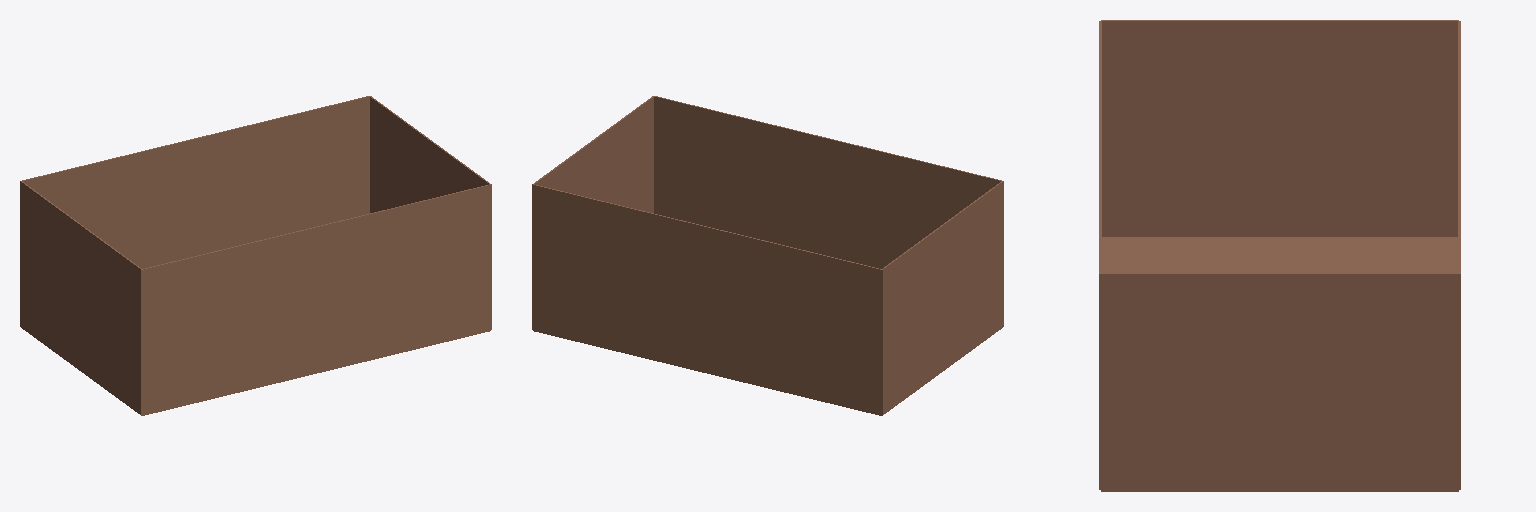
robot.urdf — container.urdf:
<?xml version="0.0" ?>
<robot name="container.urdf">
  <link name="baseLink">
    <contact>
      <lateral_friction value="0.3"/>
      <rolling_friction value="0.0001"/>
      <inertia_scaling value="3.0"/>
    </contact>
    <inertial>
      <origin rpy="0 0 0" xyz="0 0 0"/>
       <mass value="1"/>
       <inertia ixx="1" ixy="0" ixz="0" iyy="1" iyz="0" izz="1"/>
    </inertial>

    <visual>
      <origin rpy="0 0 0" xyz="0 0 -0.1"/>
      <geometry>
        <box size="0.5 0.3 .002"/>
      </geometry>
      <material name="brown">
        <color rgba="0.61176471 0.45882353 0.37254902 1"/>
      </material>
    </visual>
    <collision>
      <origin rpy="0 0 0" xyz="0 0 -0.1"/>
      <geometry>
        <box size="0.5 0.3 .002"/>
      </geometry>
    </collision>

    <visual>
      <origin rpy="0 0 0" xyz="0 -0.15 0"/>
      <geometry>
        <box size="0.5 .002 0.2"/>
      </geometry>
      <material name="brown">
        <color rgba="0.61176471 0.45882353 0.37254902 1"/>
      </material>
    </visual>
    <collision>
      <origin rpy="0 0 0" xyz="0 -0.15 0"/>
      <geometry>
        <box size="0.5 .002 0.2"/>
      </geometry>
    </collision>

    <visual>
      <origin rpy="0 0 0" xyz="0 0.15 0"/>
      <geometry>
        <box size="0.5 .002 0.2"/>
      </geometry>
      <material name="brown">
        <color rgba="0.61176471 0.45882353 0.37254902 1"/>
      </material>
    </visual>
    <collision>
      <origin rpy="0 0 0" xyz="0 0.15 0"/>
      <geometry>
        <box size="0.5 .002 0.2"/>
      </geometry>
    </collision>

    <visual>
      <origin rpy="0 0 0" xyz="-0.25 0 0"/>
      <geometry>
        <box size=".002 0.3 0.2"/>
      </geometry>
      <material name="brown">
        <color rgba="0.61176471 0.45882353 0.37254902 1"/>
      </material>
    </visual>
    <collision>
      <origin rpy="0 0 0" xyz="-0.25 0 0"/>
      <geometry>
        <box size=".002 0.3 0.2"/>
      </geometry>
    </collision>

    <visual>
      <origin rpy="0 0 0" xyz="0.25 0 0"/>
      <geometry>
        <box size=".002 0.3 0.2"/>
      </geometry>
      <material name="brown">
        <color rgba="0.61176471 0.45882353 0.37254902 1"/>
      </material>
    </visual>
    <collision>
      <origin rpy="0 0 0" xyz="0.25 0 0"/>
      <geometry>
        <box size=".002 0.3 0.2"/>
      </geometry>
    </collision>

  </link>
</robot>

--- Facts derived from the render (not from the file) ---
The picture shows the robot from 3 angles, left to right: view 1: azimuth 30°, elevation 25°; view 2: azimuth 150°, elevation 25°; view 3: azimuth 270°, elevation 25°; orthographic projection.
Model container.urdf with 1 links and 0 joints (none), rooted at baseLink, posed all joints at 0.
Links seen in each view (by area): view 1: baseLink; view 2: baseLink; view 3: baseLink.
Boxes of the visible links, x1,y1,x2,y2 form: baseLink: (20,96,491,415); baseLink: (532,96,1003,415); baseLink: (1099,20,1460,491).
Bounding box of the posed robot: 0.502 × 0.302 × 0.201 m (x, y, z).
Geometry: primitives only (box / cylinder / sphere), no mesh files.